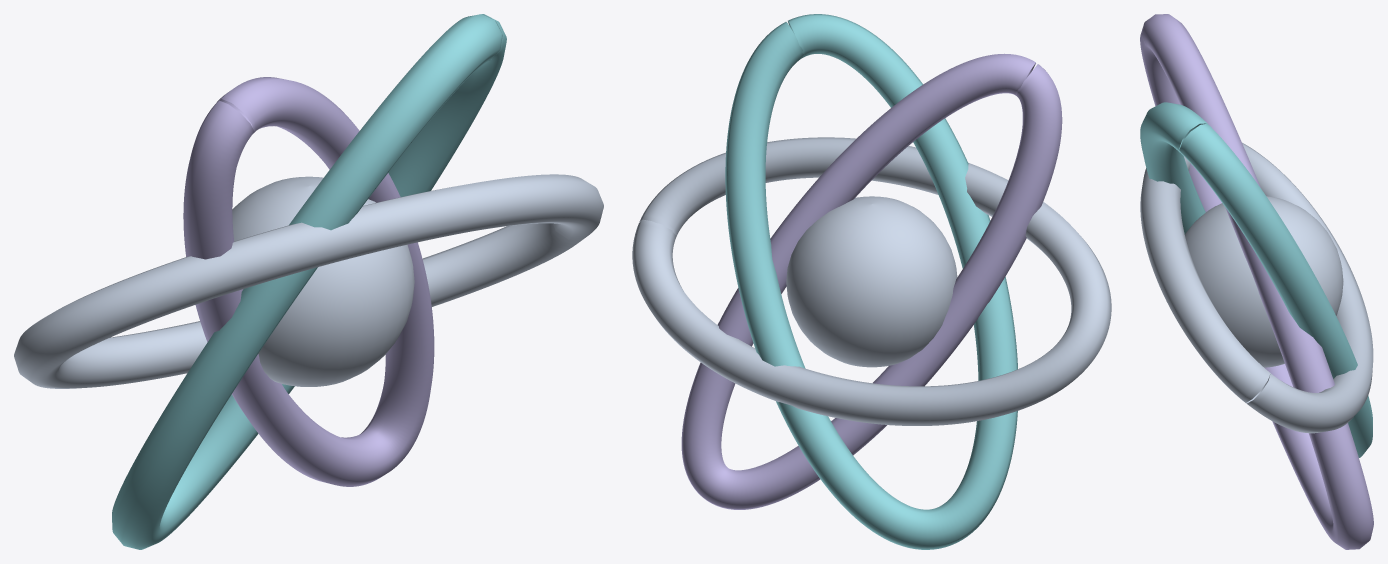
Rendered from settings.glb.
3 views of the same model, side by side, from view 1: azimuth 30°, elevation 25°; view 2: azimuth 150°, elevation 25°; view 3: azimuth 270°, elevation 25° (orthographic). The views are drawn at different scales.
Parts seen in each view (by area): view 1: Optical_alloy, Optical_lens, Optical_silk, Gimbal_alloy; view 2: Optical_lens, Optical_alloy, Optical_silk, Gimbal_alloy; view 3: Optical_silk, Optical_alloy, Optical_lens, Gimbal_alloy.
Boxes of the visible parts, left/top/right/bottom form: Optical_alloy: left=14, top=174, right=603, bottom=388; Optical_lens: left=112, top=14, right=506, bottom=549; Optical_silk: left=183, top=77, right=434, bottom=486; Gimbal_alloy: left=232, top=176, right=414, bottom=386; Optical_lens: left=725, top=14, right=1017, bottom=549; Optical_alloy: left=632, top=137, right=1111, bottom=425; Optical_silk: left=681, top=53, right=1062, bottom=509; Gimbal_alloy: left=786, top=196, right=957, bottom=367; Optical_silk: left=1140, top=14, right=1373, bottom=549; Optical_alloy: left=1140, top=142, right=1373, bottom=433; Optical_lens: left=1140, top=102, right=1372, bottom=457; Gimbal_alloy: left=1185, top=196, right=1343, bottom=367.
Bounding box in the file's own units: 1.06 × 0.9444 × 0.4597.
